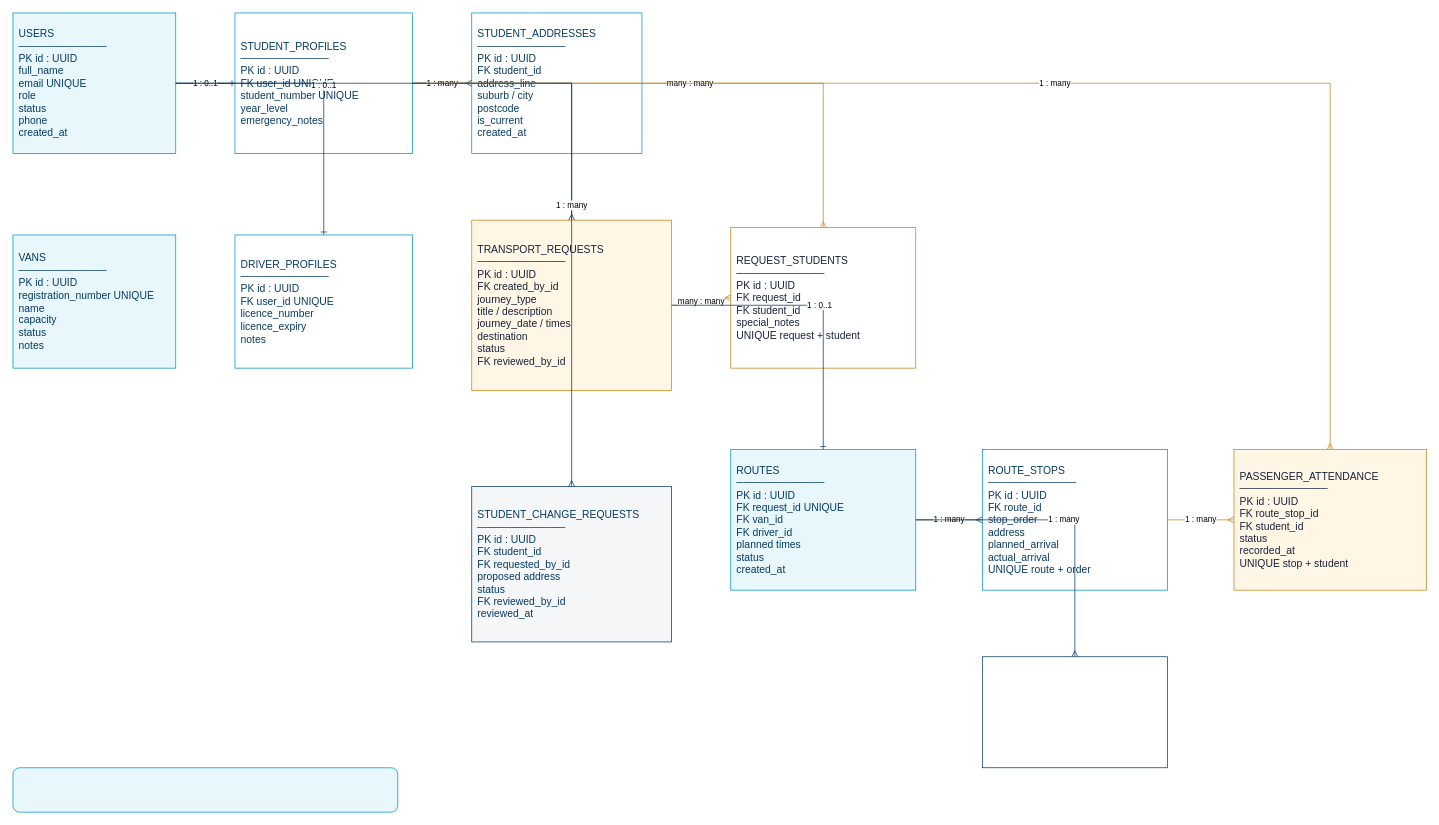
The diagram is 1439 pixels wide and 825 high, and some of its shapes have lost their labels. Each missing label, with the centre of its shape:
"JOURNEY_EVENTS ──────────── PK id : UUID FK route_id event_type event_time notes" goes at (1074,712).
"Open these files in diagrams.net: File → Open From → Device" goes at (205,789).
